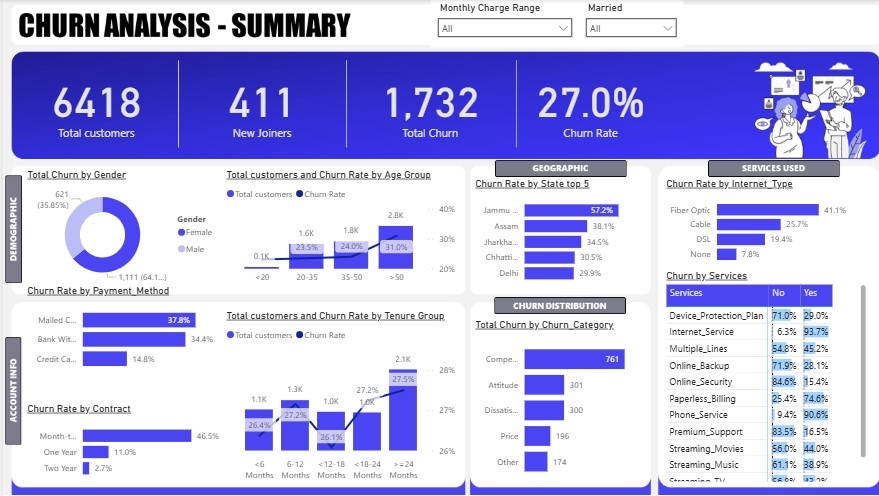

The dashboard page shown, as its layout file describes it:
{"tool":"powerbi","page":{"name":"Summary","canvas":[1280,720],"ordinal":0},"visuals":[{"type":"card","fields":{"Values":["tbl_Measures.Total customers"]},"box":[14.2,78.7,241.3,148.4],"z":0},{"type":"card","fields":{"Values":["tbl_Measures.New Joiners"]},"box":[255.5,78.7,237.4,148.4],"z":1000},{"type":"card","fields":{"Values":["tbl_Measures.Total Churn"]},"box":[495.5,78.7,243.9,148.4],"z":2000},{"type":"card","fields":{"Values":["tbl_Measures.Churn Rate"]},"box":[739.4,78.7,221.9,148.4],"z":3000},{"type":"donutChart","fields":{"Category":["prod_Churn.Gender"],"Y":["tbl_Measures.Total Churn"]},"box":[31,246.5,287.7,174.2],"z":4000},{"type":"lineStackedColumnComboChart","fields":{"Category":["mapping_AgeGrp.Age Group"],"Y":["tbl_Measures.Total customers"],"Y2":["tbl_Measures.Churn Rate"]},"box":[318.7,246.5,340.6,174.2],"z":5000},{"type":"clusteredBarChart","fields":{"Y":["tbl_Measures.Churn Rate"],"Category":["prod_Churn.Payment_Method"]},"box":[30.4,413.5,287.7,134.5],"z":6000},{"type":"clusteredBarChart","fields":{"Y":["tbl_Measures.Churn Rate"],"Category":["prod_Churn.Contract"]},"box":[31,584.5,287.7,118.7],"z":7000},{"type":"lineStackedColumnComboChart","fields":{"Category":["Mapping_TenureGRP.Tenure Group"],"Y2":["tbl_Measures.Churn Rate"],"Y":["tbl_Measures.Total customers"]},"box":[318.7,449,340.6,254.2],"z":8000},{"type":"clusteredBarChart","title":"Churn Rate by State top 5","fields":{"Category":["prod_Churn.State"],"Y":["tbl_Measures.Churn Rate"]},"box":[678.7,259.4,250.3,161.3],"z":9000},{"type":"clusteredBarChart","fields":{"Category":["prod_Churn.Churn_Category"],"Y":["tbl_Measures.Total Churn"]},"box":[678.7,461.9,250.3,241.3],"z":10000},{"type":"clusteredBarChart","fields":{"Category":["prod_Churn.Internet_Type"],"Y":["tbl_Measures.Churn Rate"]},"box":[953.5,259.4,274.8,132.9],"z":11000},{"type":"pivotTable","title":"Churn by Services","fields":{"Rows":["prod_Services.Services"],"Columns":["prod_Services.Status"],"Values":["Sum(prod_Services.Churn Status)"]},"box":[953.5,392.3,299.4,311],"z":12000},{"type":"slicer","fields":{"Values":["prod_Services.Monthly Charge Range"]},"box":[618.6,0,214.3,70],"z":13000},{"type":"slicer","fields":{"Values":["prod_Services.Married"]},"box":[832.9,0,151.4,70],"z":14000}]}

Visuals, with their boxes in screenshot pixels (x1, y1, x2, y2), scaled from the page's 1280x720 canvas onto the 879x496 screenshot:
card - tbl_Measures.Total customers: 10,54,175,156
card - tbl_Measures.New Joiners: 175,54,338,156
card - tbl_Measures.Total Churn: 340,54,508,156
card - tbl_Measures.Churn Rate: 508,54,660,156
donutChart - prod_Churn.Gender x tbl_Measures.Total Churn: 21,170,219,290
lineStackedColumnComboChart - mapping_AgeGrp.Age Group x tbl_Measures.Total customers: 219,170,453,290
clusteredBarChart - tbl_Measures.Churn Rate x prod_Churn.Payment_Method: 21,285,218,378
clusteredBarChart - tbl_Measures.Churn Rate x prod_Churn.Contract: 21,403,219,484
lineStackedColumnComboChart - Mapping_TenureGRP.Tenure Group x tbl_Measures.Churn Rate: 219,309,453,484
"Churn Rate by State top 5" clusteredBarChart: 466,179,638,290
clusteredBarChart - prod_Churn.Churn_Category x tbl_Measures.Total Churn: 466,318,638,484
clusteredBarChart - prod_Churn.Internet_Type x tbl_Measures.Churn Rate: 655,179,843,270
"Churn by Services" pivotTable: 655,270,860,484
slicer - prod_Services.Monthly Charge Range: 425,0,572,48
slicer - prod_Services.Married: 572,0,676,48
